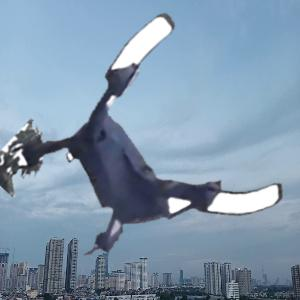drone: (33, 44, 275, 286)
